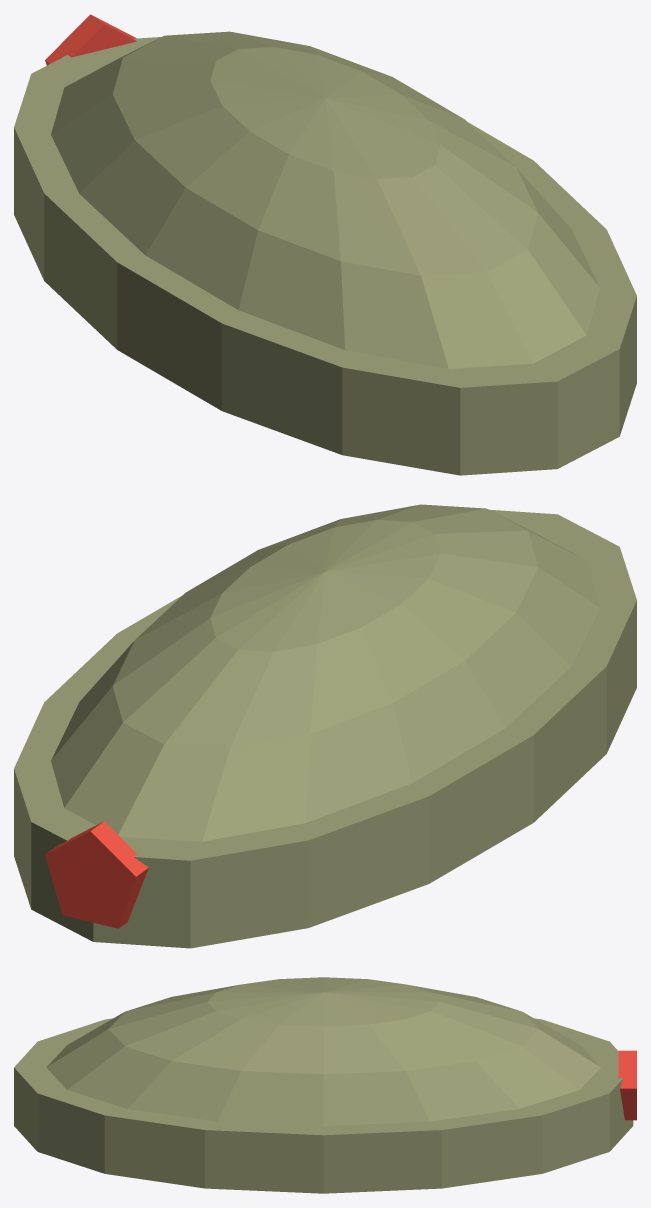
Rendered from hat_pilotka.glb.
3 views of the same model, one above another, from view 1: azimuth 30°, elevation 25°; view 2: azimuth 150°, elevation 25°; view 3: azimuth 270°, elevation 25° (orthographic). The views are drawn at different scales.
Parts seen in each view (by area): view 1: Head; view 2: Head; view 3: Head.
Boxes of the visible parts, left/top/right/bottom form: Head: left=14, top=14, right=636, bottom=475; Head: left=14, top=504, right=636, bottom=948; Head: left=14, top=977, right=636, bottom=1193.
Bounding box in the file's own units: 0.348 × 0.16 × 0.676.
